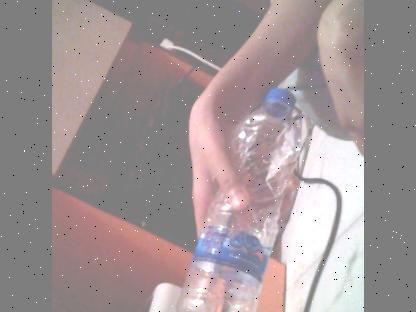Plastic Bottle: (178, 86, 310, 312)
